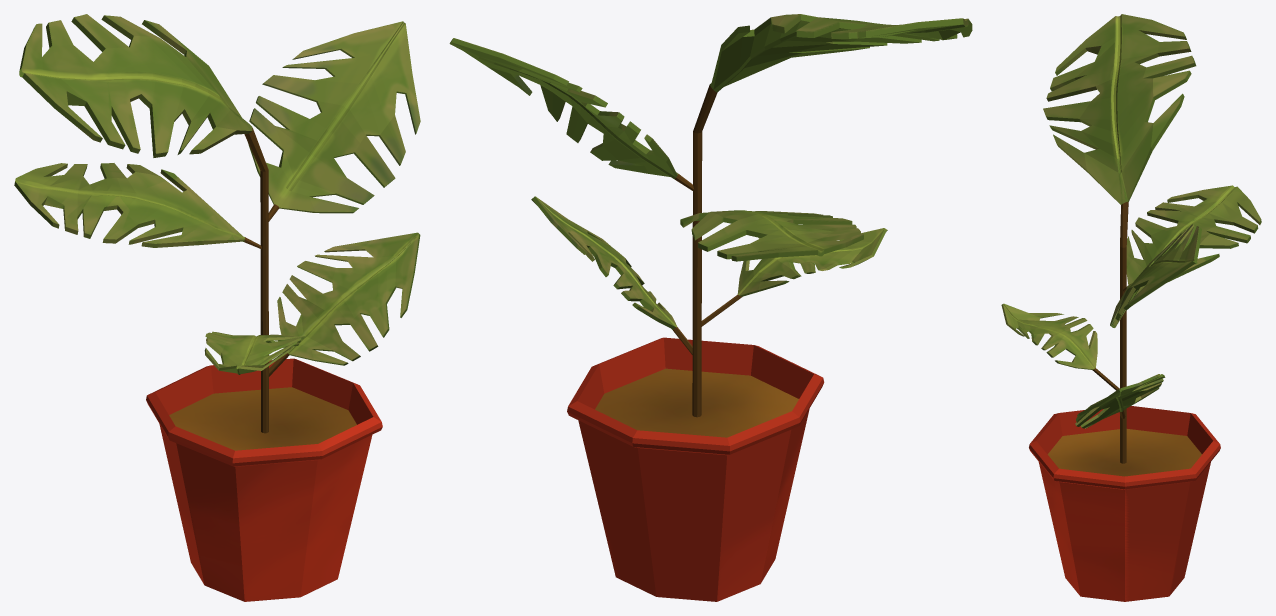
The model's file is planta.fbx.
3 renders of one model, left to right at view 1: azimuth 30°, elevation 25°; view 2: azimuth 150°, elevation 25°; view 3: azimuth 270°, elevation 25°, orthographic. The views are drawn at different scales.
Visible parts, largest first — view 1: Cube; view 2: Cube; view 3: Cube.
Part boxes in pixels (x1,y1,x2,y2): Cube: (14, 14, 420, 601); Cube: (449, 14, 972, 601); Cube: (1001, 14, 1261, 601).
Bounding box in the file's own units: 601 × 760 × 382.
1 material, 1 textured.
